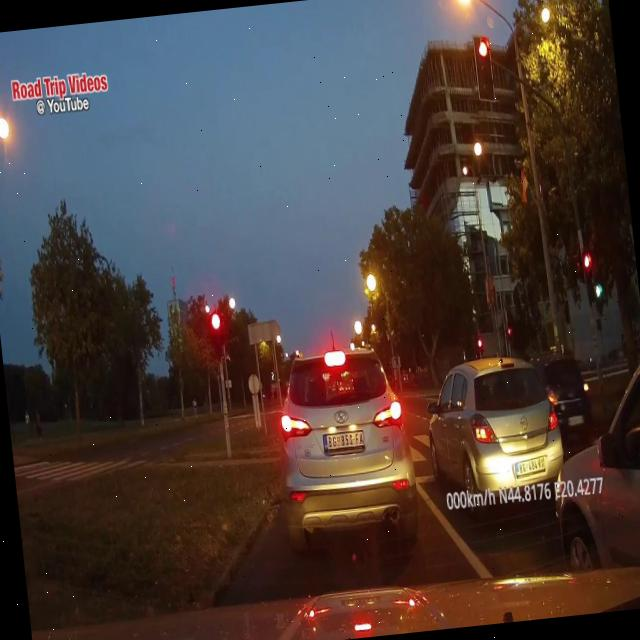License-plate: (322, 428, 366, 456), (512, 454, 548, 479)
